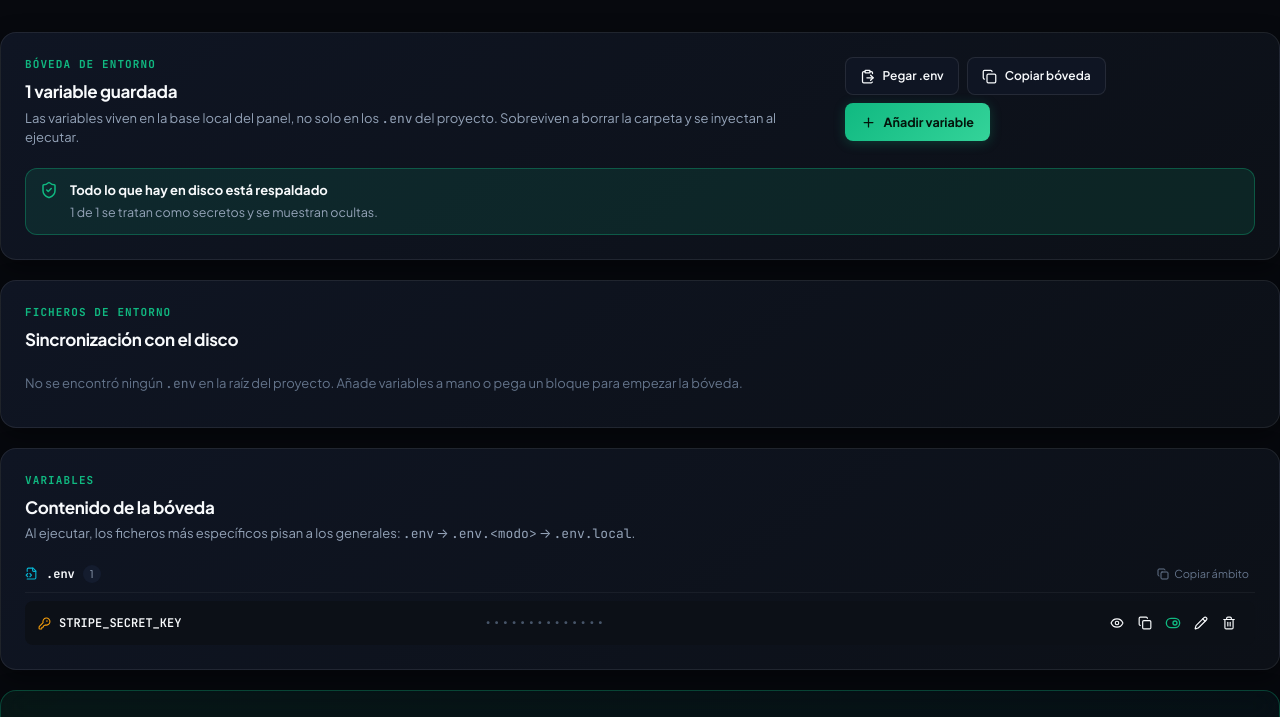
Test: EnvironmentTab: secretos ocultos › un valor marcado como secreto no se muestra hasta revelarlo
Expected: the text "sk_live_abcdef" is not shown
Click the button titled "Revelar valor".
click(1117, 623)  # box [1104,610,1130,636]
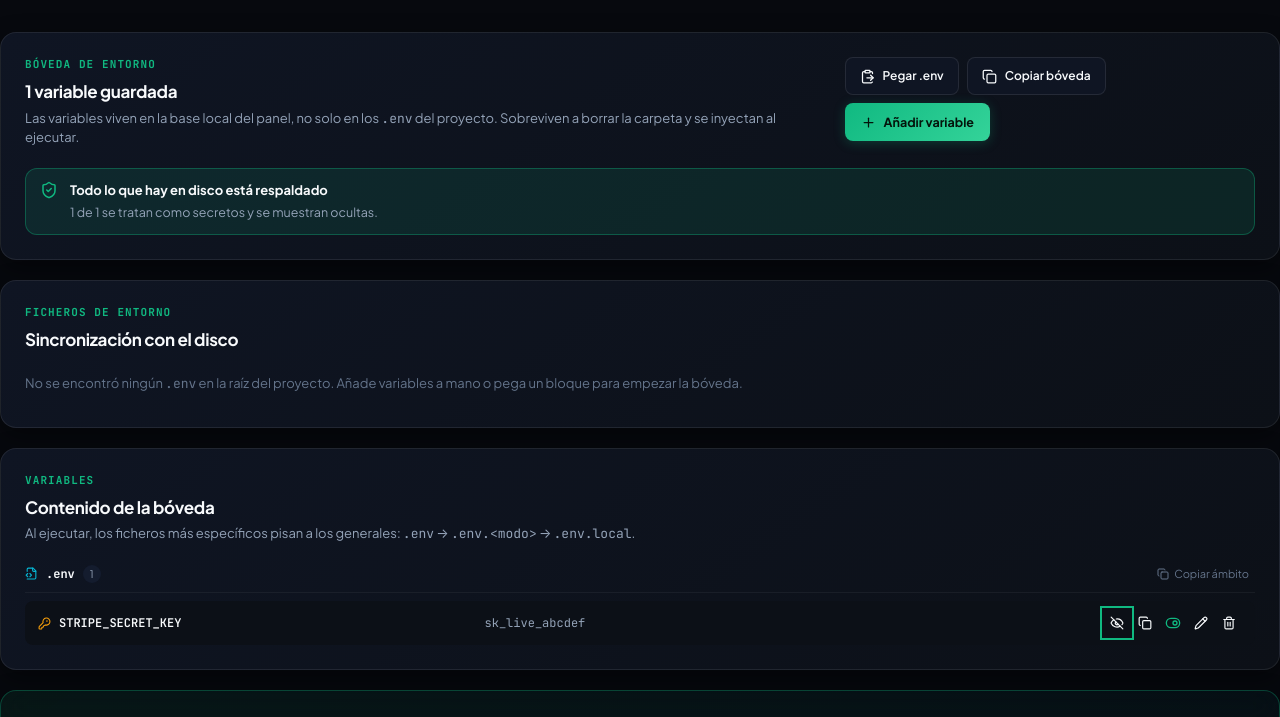
Now the text "sk_live_abcdef" is shown, box [484,615,585,631]
Click the button titled "Ocultar valor".
click(1117, 623)  # box [1104,610,1130,636]
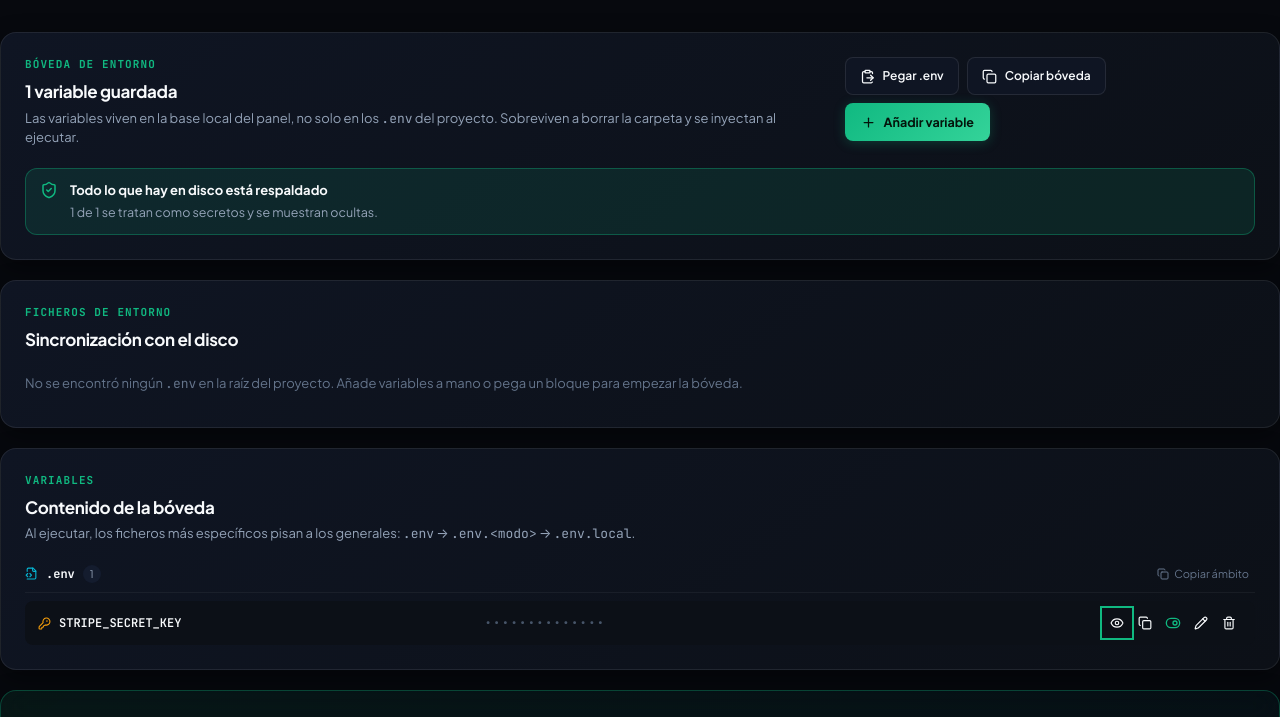
Now the text "sk_live_abcdef" is gone
